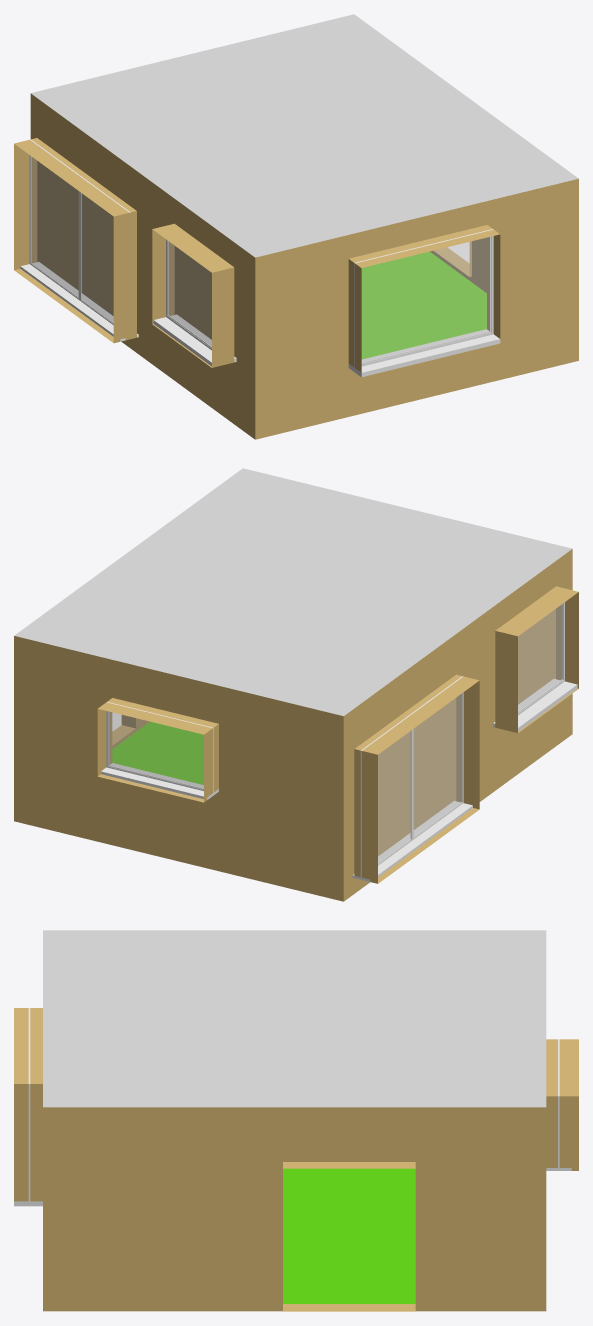
File: Family_Dining.glb
3 renders of one model, top to bottom at view 1: azimuth 30°, elevation 25°; view 2: azimuth 150°, elevation 25°; view 3: azimuth 270°, elevation 25°, orthographic. The views are drawn at different scales.
Visible parts, largest first — view 1: Room_Family-Dining, Family_South_Window, Patio_DiningRoom_Doors, Family_West_Window; view 2: Room_Family-Dining, Patio_DiningRoom_Doors, Dining_North_Window, Family_West_Window; view 3: Room_Family-Dining, Family_South_Window.
Boxes of the visible parts, x1,y1,x2,y2 form: Room_Family-Dining: (14, 14, 578, 439); Family_South_Window: (348, 229, 500, 376); Patio_DiningRoom_Doors: (20, 139, 138, 341); Family_West_Window: (153, 239, 236, 366); Room_Family-Dining: (14, 468, 578, 901); Patio_DiningRoom_Doors: (352, 676, 472, 881); Dining_North_Window: (101, 702, 218, 799); Family_West_Window: (493, 602, 577, 731); Room_Family-Dining: (14, 930, 578, 1311); Family_South_Window: (14, 1008, 42, 1206).
Size of the model in its own units: 6.21 by 3 by 7.52.
